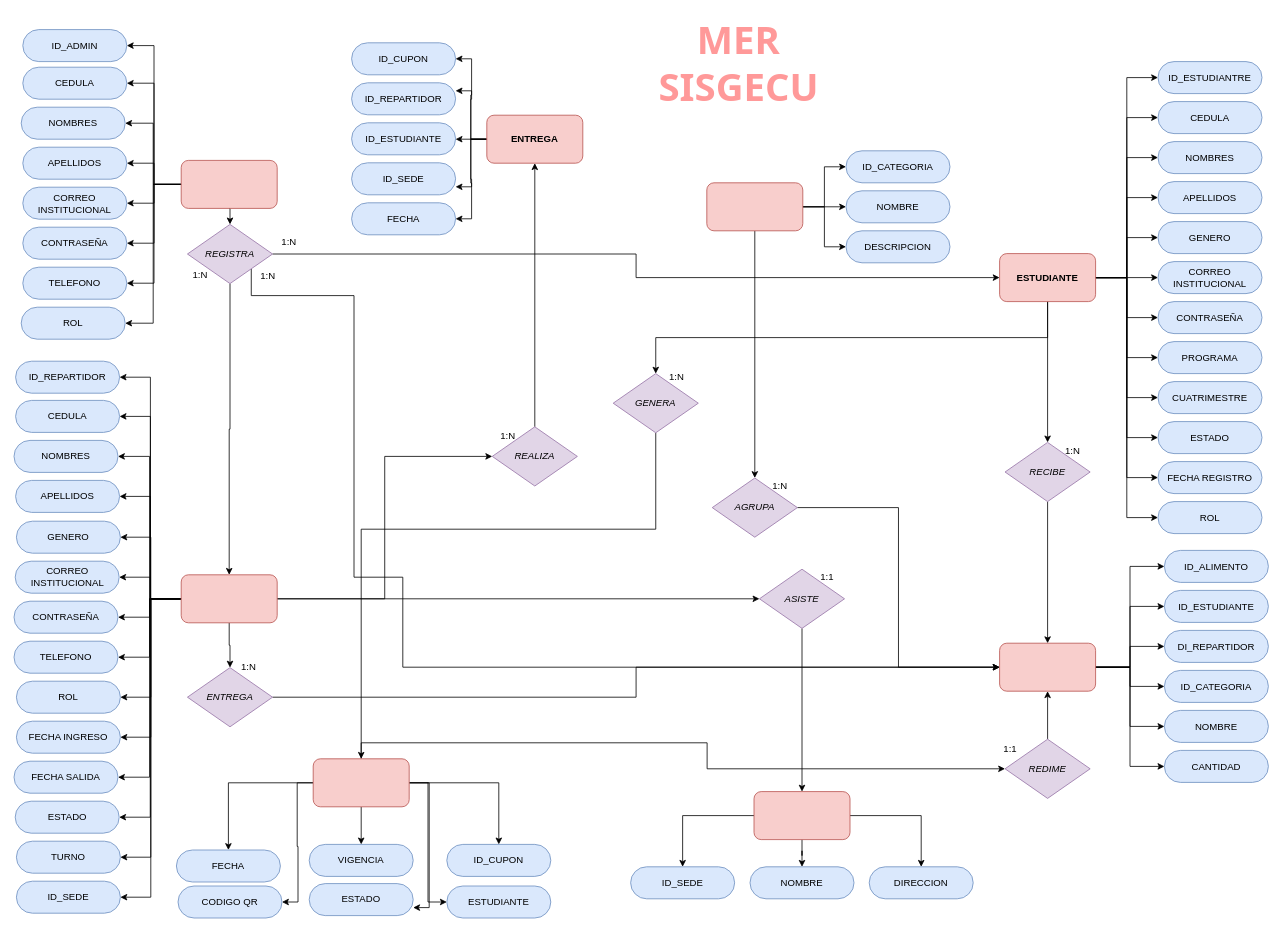
Image size: 1282x932. Some labels were removed from this diagram. The centre of each missing label's shape, as x and y in pixels:
ADMINISTRADOR: (x=228, y=184)
ALIMENTO: (x=1047, y=666)
CATEGORÍA: (x=754, y=206)
CUPON: (x=360, y=782)
REPARTIDOR: (x=228, y=598)
SEDE: (x=801, y=815)
